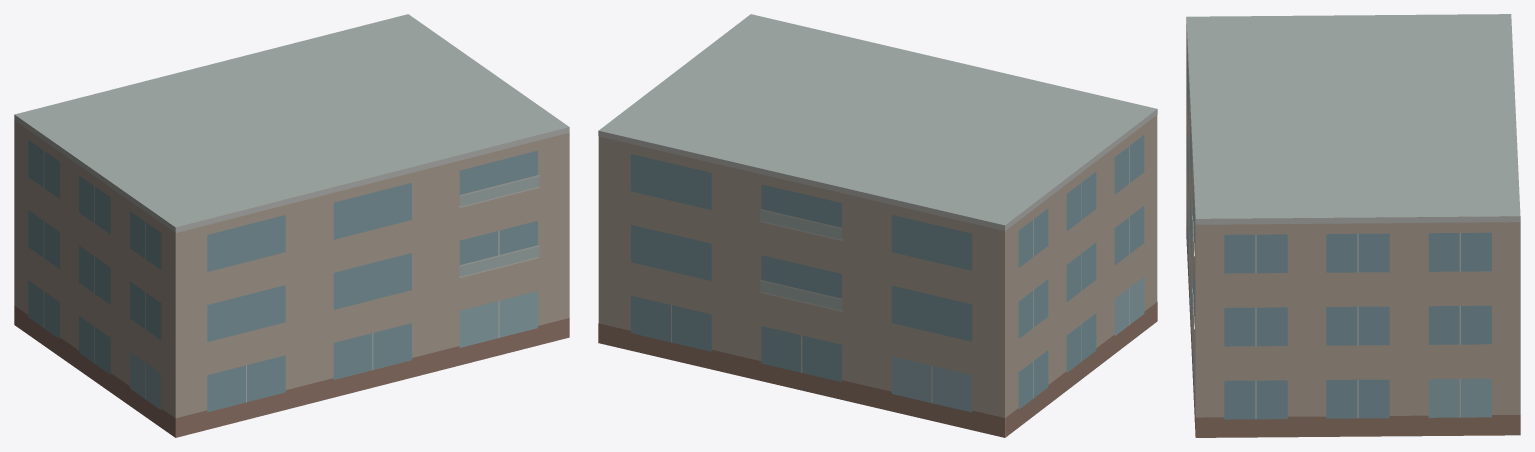
File: survey-upis-32558753.glb
3 views of the same model, side by side, from view 1: azimuth 30°, elevation 25°; view 2: azimuth 150°, elevation 25°; view 3: azimuth 270°, elevation 25° (orthographic). The views are drawn at different scales.
Parts seen in each view (by area): view 1: survey-upis-32558753.tmp; view 2: survey-upis-32558753.tmp; view 3: survey-upis-32558753.tmp.
Boxes of the visible parts, x1=… form: survey-upis-32558753.tmp: x1=14, y1=14, x2=569, y2=437; survey-upis-32558753.tmp: x1=598, y1=14, x2=1157, y2=437; survey-upis-32558753.tmp: x1=1186, y1=14, x2=1520, y2=437.
Bounding box in the file's own units: 18.37 × 9.15 × 12.66.
